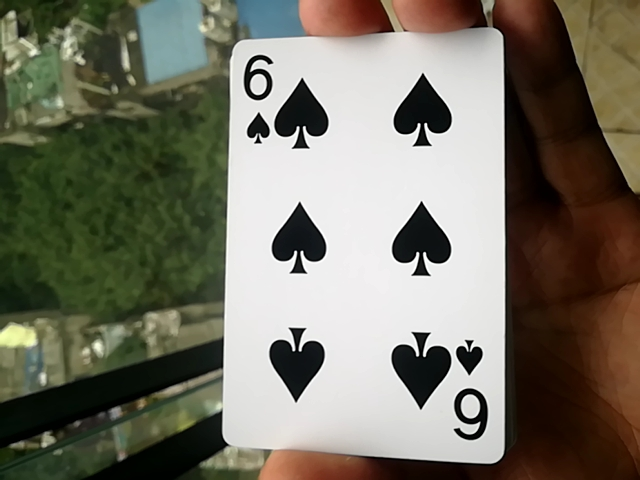ht 6: (216, 21, 503, 470)
